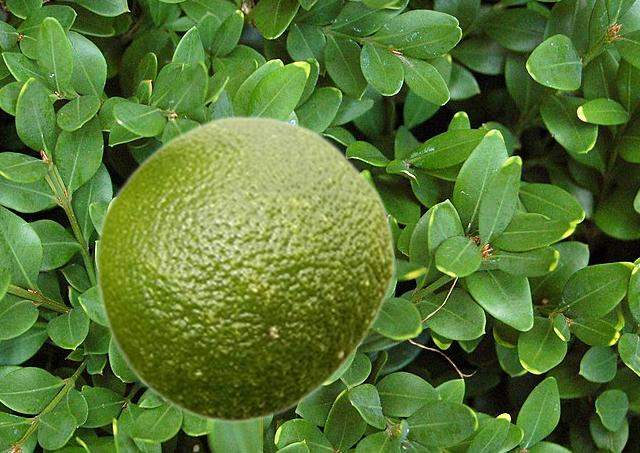calamansi: (94, 114, 395, 424)
